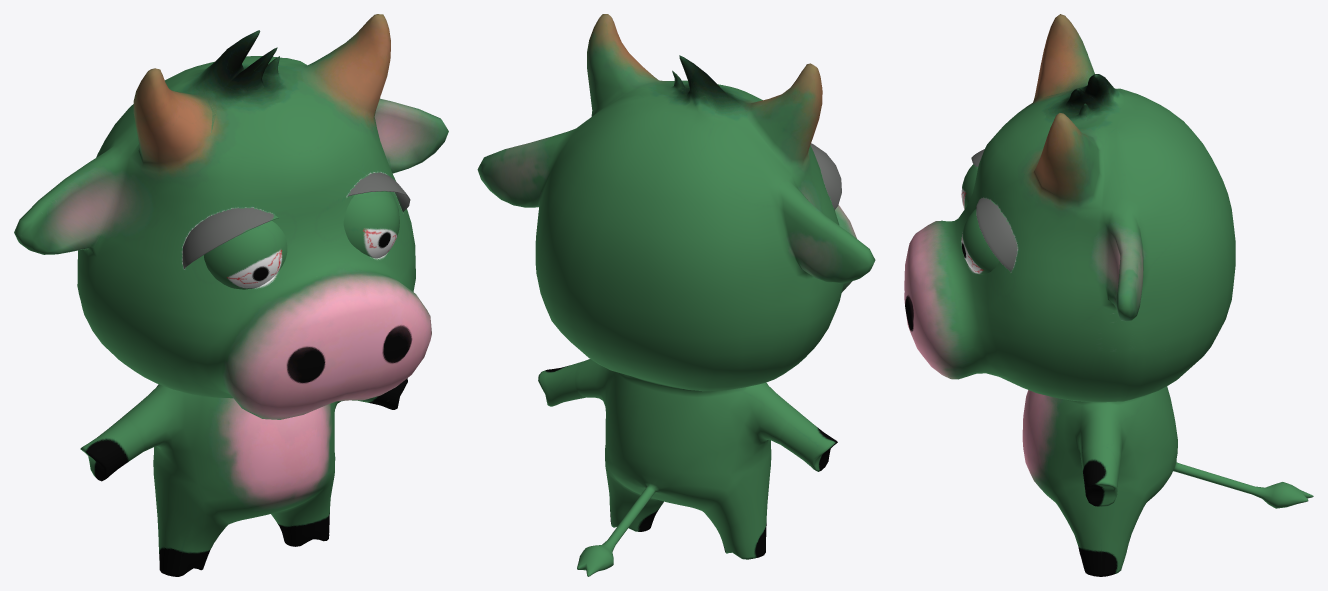
Rendered from ill cow.FBX.
3 renders of one model, left to right at view 1: azimuth 30°, elevation 25°; view 2: azimuth 150°, elevation 25°; view 3: azimuth 270°, elevation 25°, orthographic. The views are drawn at different scales.
Visible parts, largest first — view 1: node_id47, node_id28, node_id26; view 2: node_id47, node_id28; view 3: node_id47, node_id26.
Part boxes in pixels (left/top/right/bottom): node_id47: left=14, top=14, right=448, bottom=576; node_id28: left=182, top=207, right=278, bottom=268; node_id26: left=347, top=172, right=410, bottom=211; node_id47: left=477, top=14, right=875, bottom=576; node_id28: left=810, top=143, right=841, bottom=210; node_id47: left=904, top=14, right=1313, bottom=576; node_id26: left=976, top=198, right=1017, bottom=272.
Size of the model in its own units: 0.4236 by 0.4973 by 0.3854.
3 materials, 3 textured.
